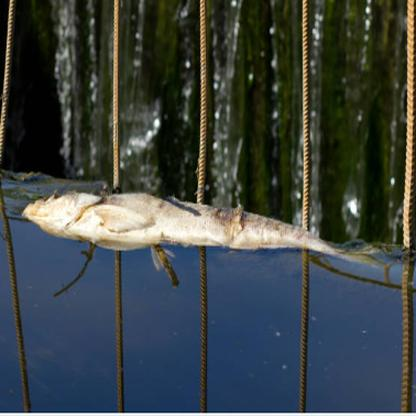deceased fish: (12, 183, 390, 269)
